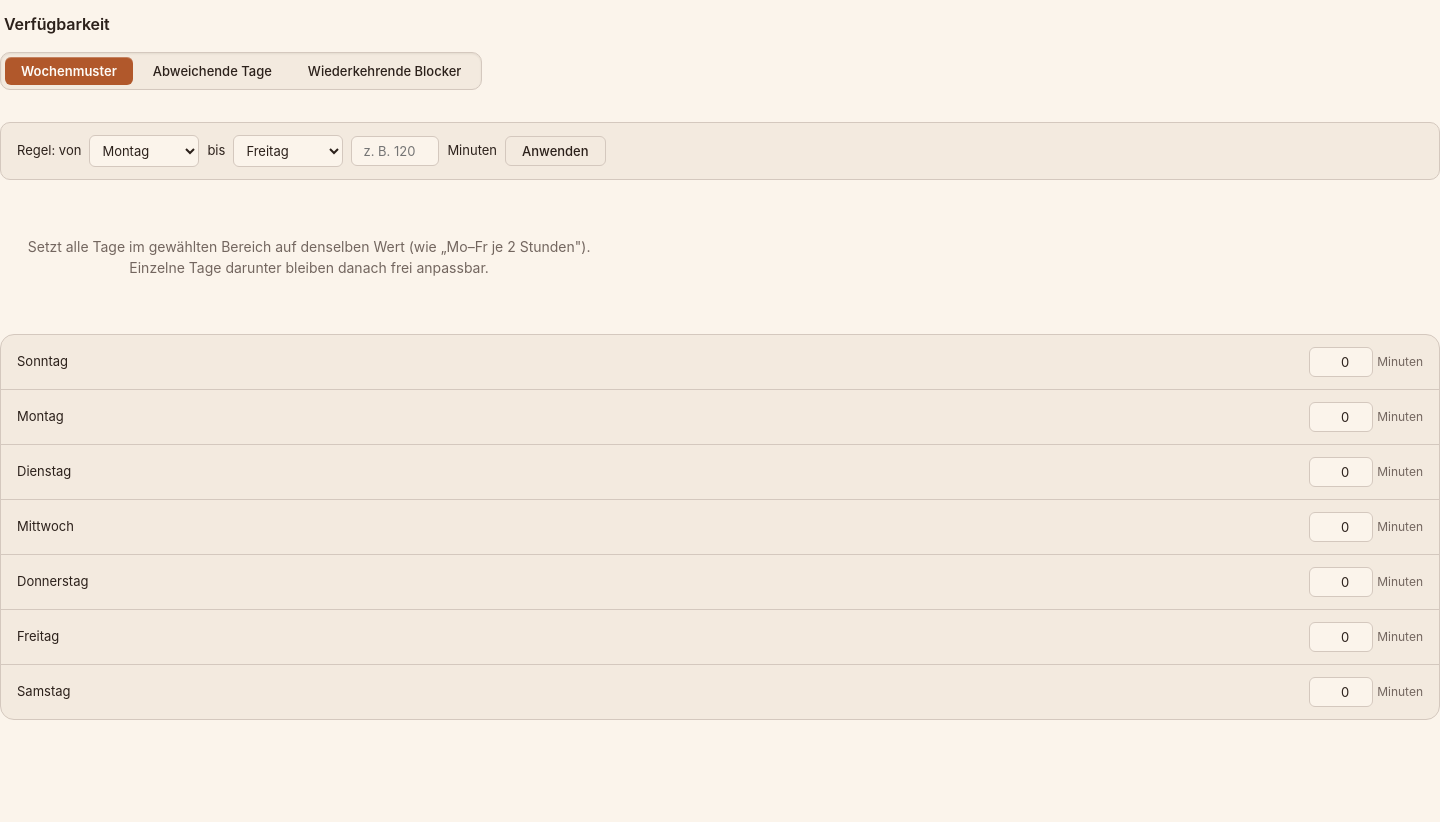
Test: AvailabilitySetup › listet bestehende Ausnahmen
The width and height of the screenshot is (1440, 822).
Click the tab "Abweichende Tage". click: (212, 71)
box: [137, 57, 288, 85]
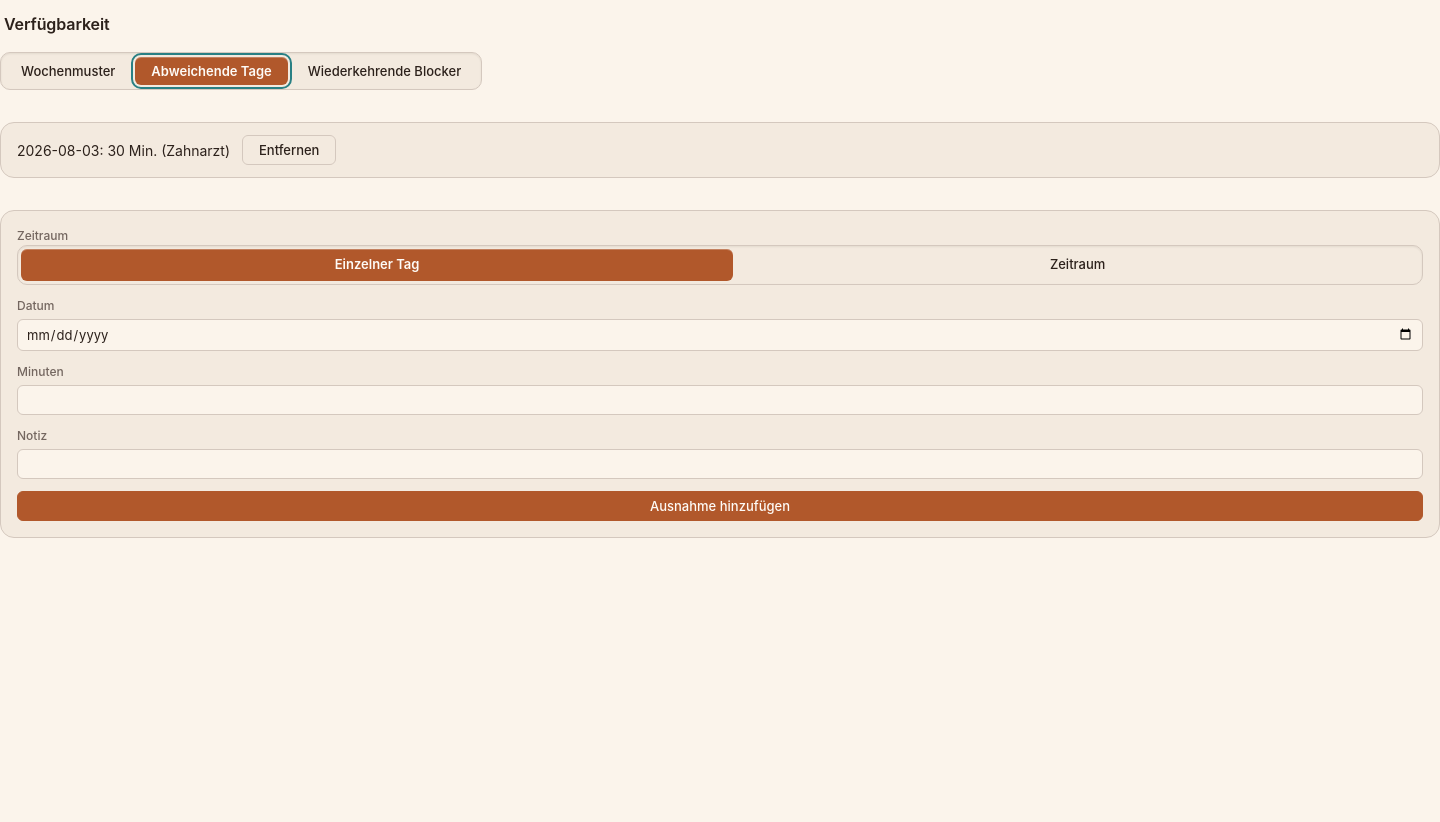
Expected: the list item "2026-08-03: 30 Min. (Zahnarzt) Entfernen" is shown, [17, 135, 336, 165]
